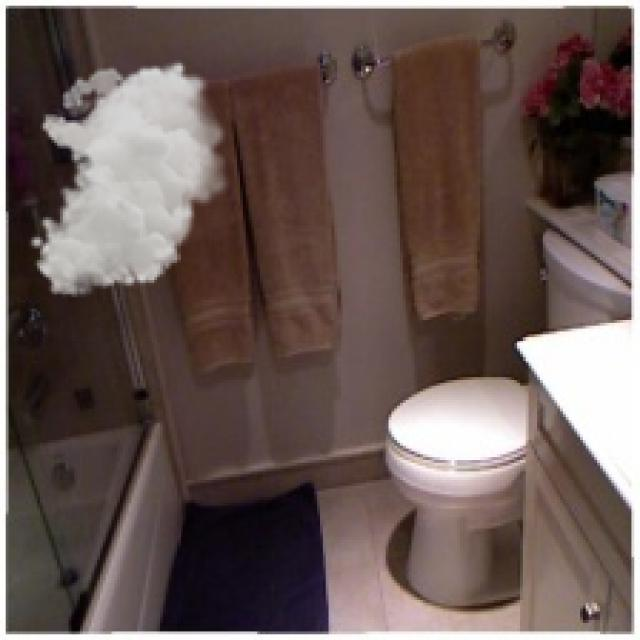smoke: (29, 60, 234, 297)
